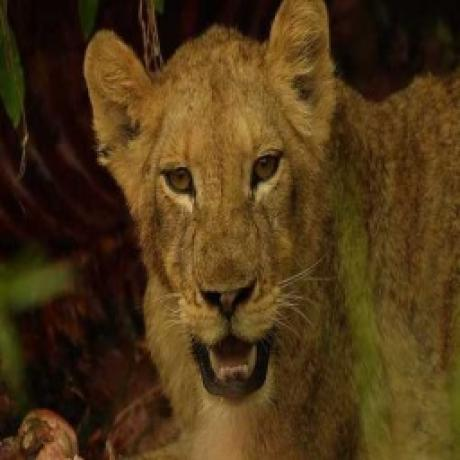Lion: (82, 0, 460, 460)
